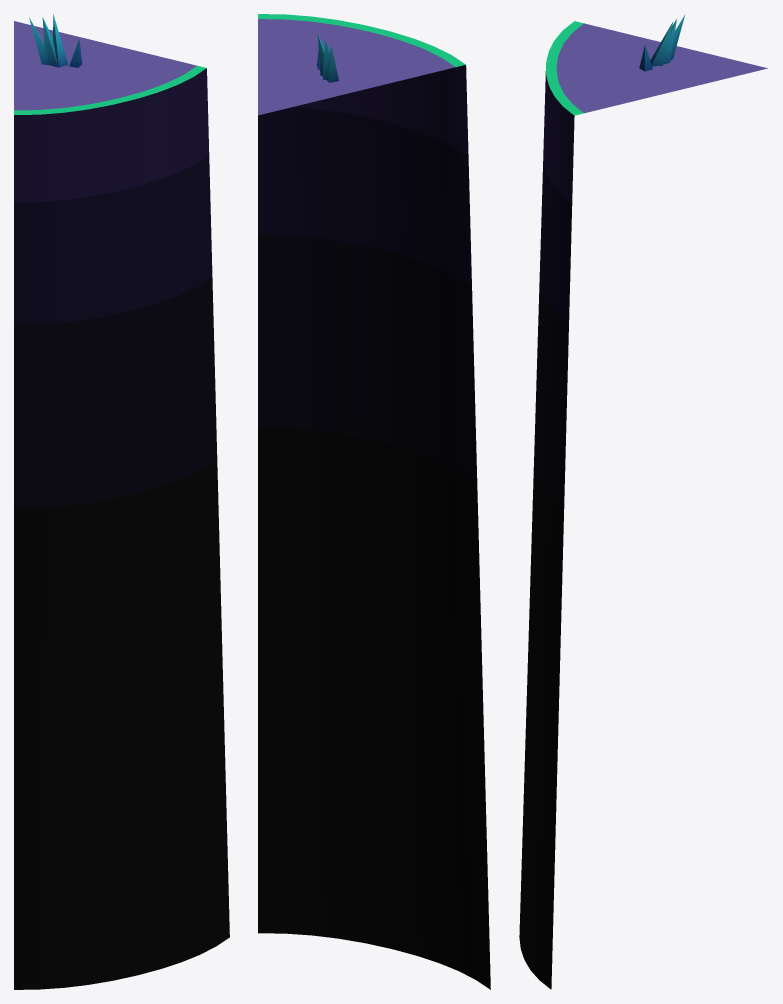
File: MODULE_ALIEN_RIM_3_CRYSTALS.fbx
3 renders of one model, left to right at view 1: azimuth 30°, elevation 25°; view 2: azimuth 150°, elevation 25°; view 3: azimuth 270°, elevation 25°, orthographic. The views are drawn at different scales.
Visible parts, largest first — view 1: MODULE_ALIEN_RIM_3_CRYSTALS__export, MODULE_ALIEN_RIM_3_CRYSTALS_DECOR__export; view 2: MODULE_ALIEN_RIM_3_CRYSTALS__export, MODULE_ALIEN_RIM_3_CRYSTALS_DECOR__export; view 3: MODULE_ALIEN_RIM_3_CRYSTALS__export, MODULE_ALIEN_RIM_3_CRYSTALS_DECOR__export.
Boxes of the visible parts, box(x1,y1,x2,y2) form: MODULE_ALIEN_RIM_3_CRYSTALS__export: box(14, 21, 229, 989); MODULE_ALIEN_RIM_3_CRYSTALS_DECOR__export: box(29, 14, 82, 67); MODULE_ALIEN_RIM_3_CRYSTALS__export: box(258, 14, 490, 989); MODULE_ALIEN_RIM_3_CRYSTALS_DECOR__export: box(317, 34, 338, 82); MODULE_ALIEN_RIM_3_CRYSTALS__export: box(519, 21, 767, 989); MODULE_ALIEN_RIM_3_CRYSTALS_DECOR__export: box(639, 15, 684, 71).
Size of the model in its own units: 53.82 by 216 by 53.48.
